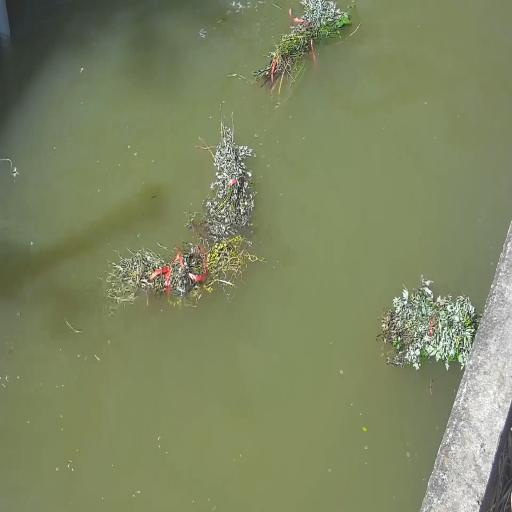twig: (108, 234, 259, 306), (380, 275, 478, 372), (252, 1, 350, 95), (199, 111, 256, 241)
